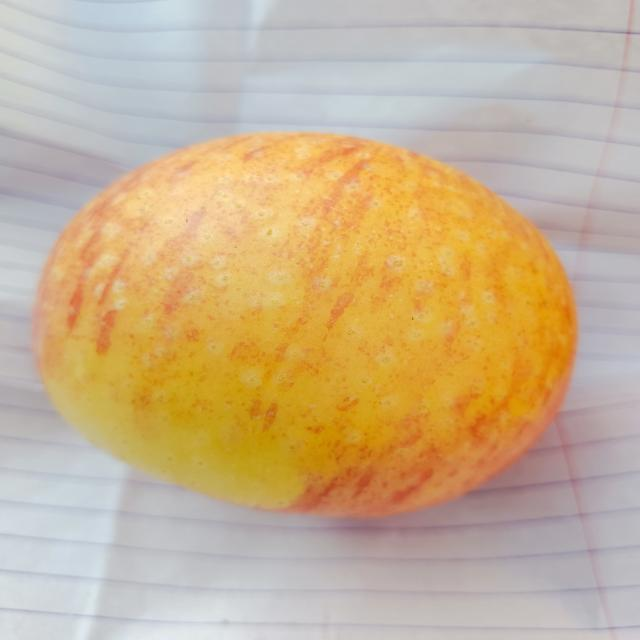Fresh Apple: (21, 123, 574, 519)
